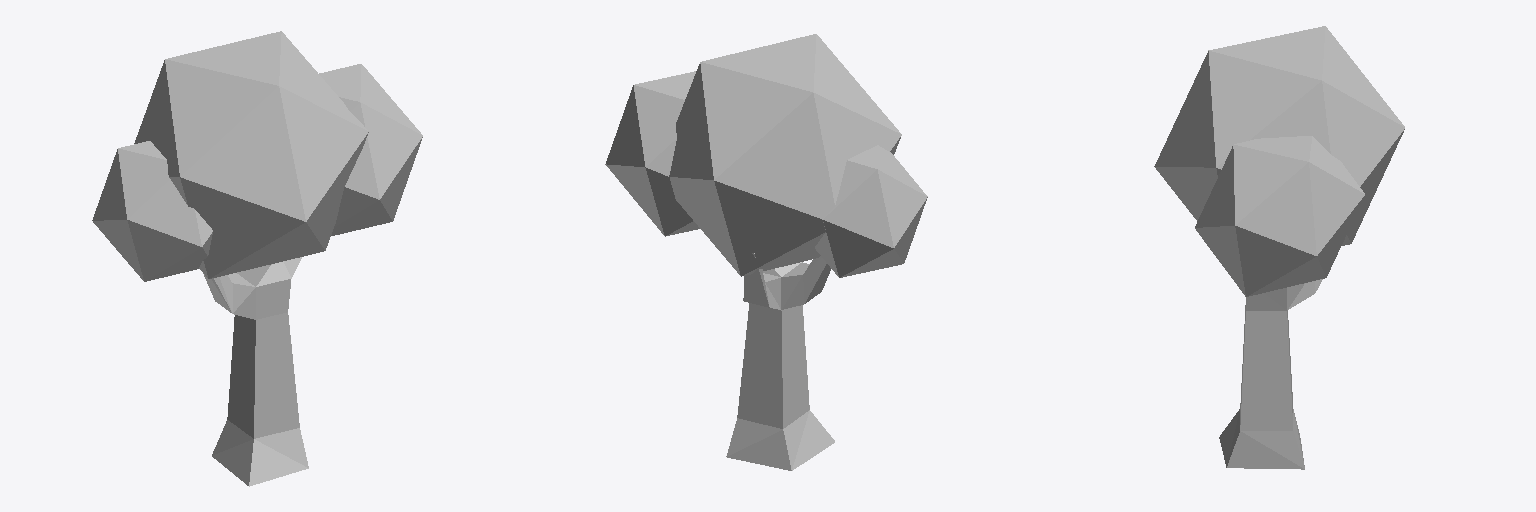
Rendered from tree1.obj.
3 renders of one model, left to right at view 1: azimuth 30°, elevation 25°; view 2: azimuth 150°, elevation 25°; view 3: azimuth 270°, elevation 25°, orthographic.
Visible parts, largest first — view 1: Cube_Cube.001; view 2: Cube_Cube.001; view 3: Cube_Cube.001.
Part boxes in pixels (left/top/right/bottom): Cube_Cube.001: left=92, top=31, right=422, bottom=486; Cube_Cube.001: left=605, top=34, right=927, bottom=470; Cube_Cube.001: left=1154, top=26, right=1404, bottom=469.
Bounding box in the file's own units: 14.41 × 18.93 × 10.82.